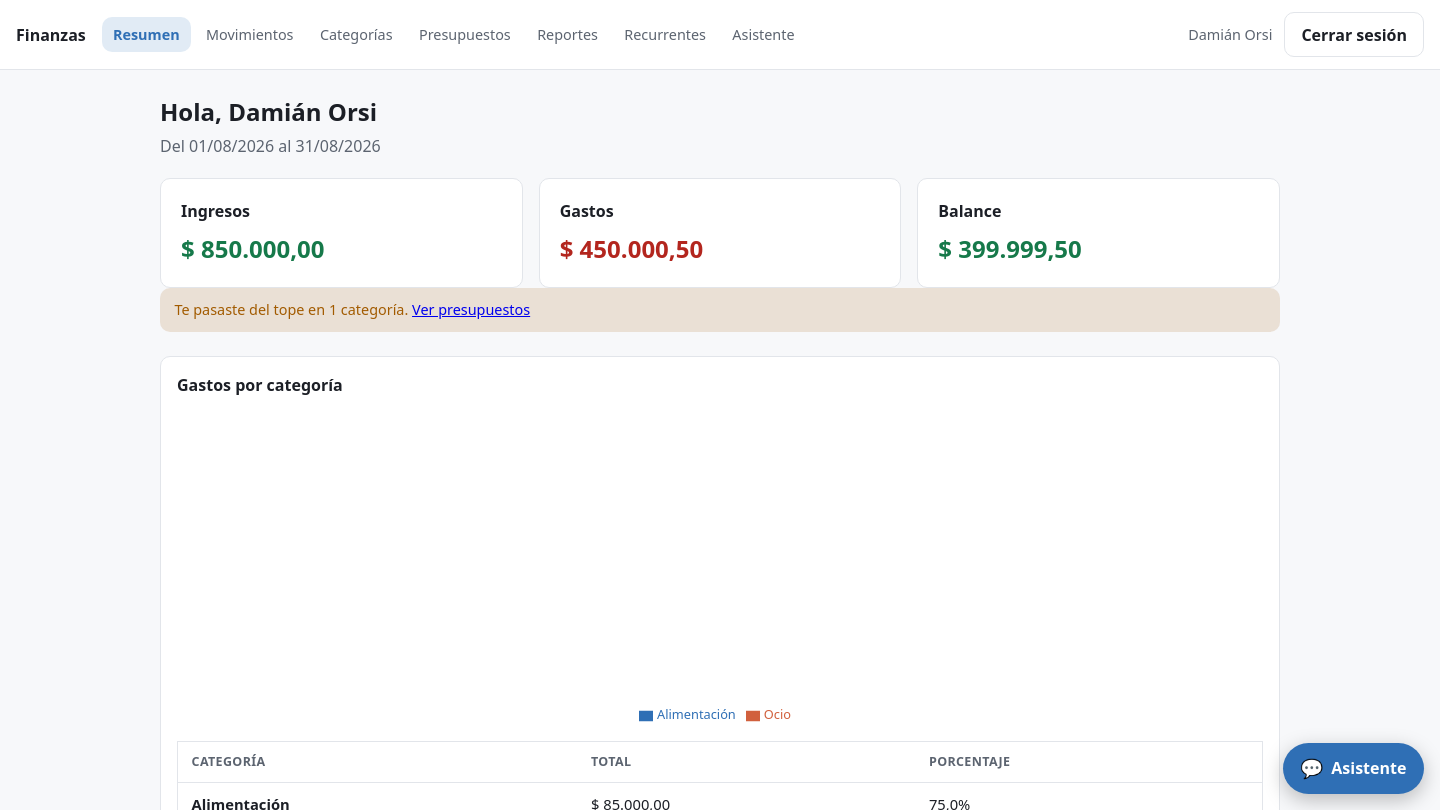
Test case: Atajo al asistente en el Resumen › está en el resumen y lleva al chat
The image size is (1440, 810).
Expected: the heading "Hola, Damián Orsi" is shown, [160,95,377,128]
Click the link with aria-label "abrir el asistente" at (1353, 768), box [1283,743,1424,794]
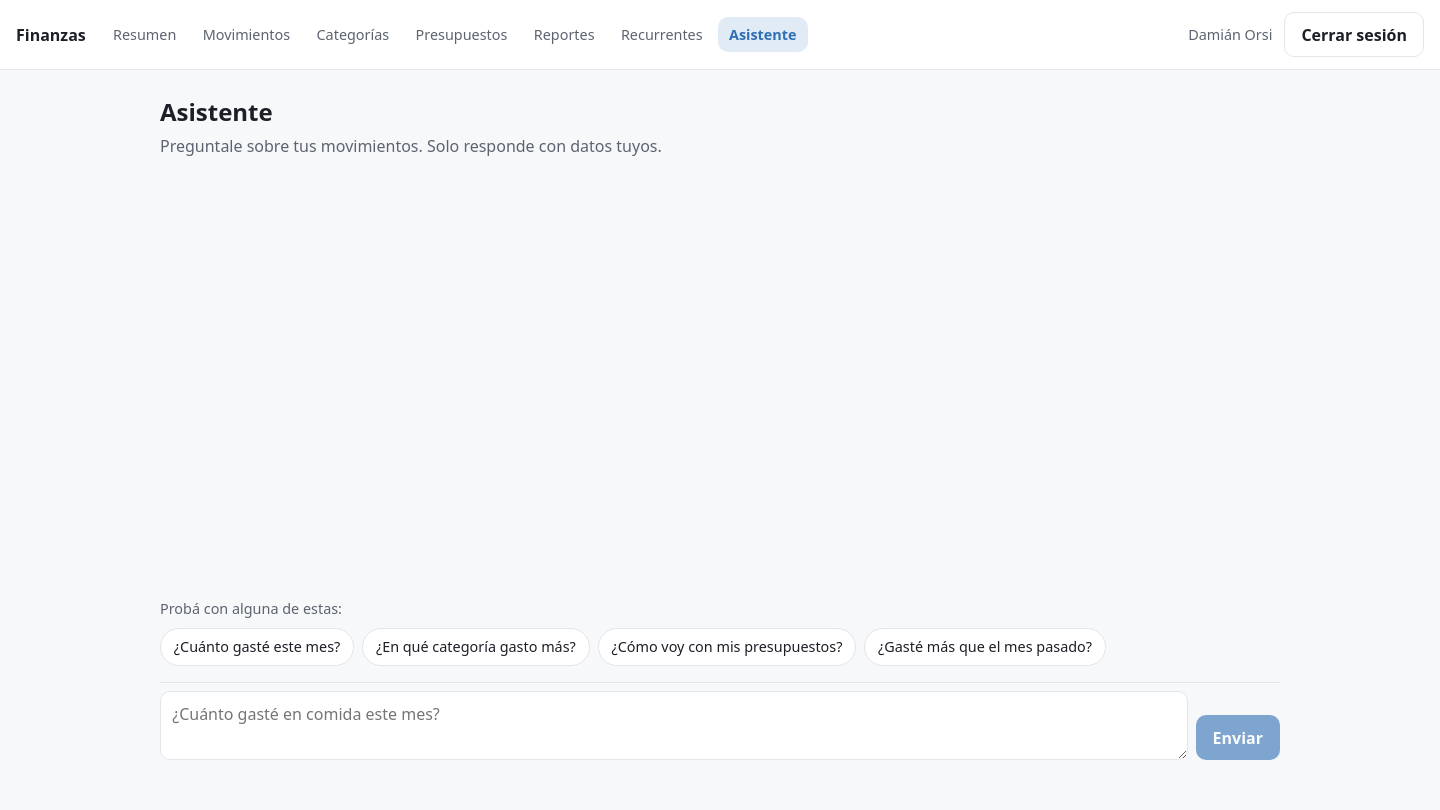
Expected: the heading "Asistente" is shown, [160,95,273,128]
